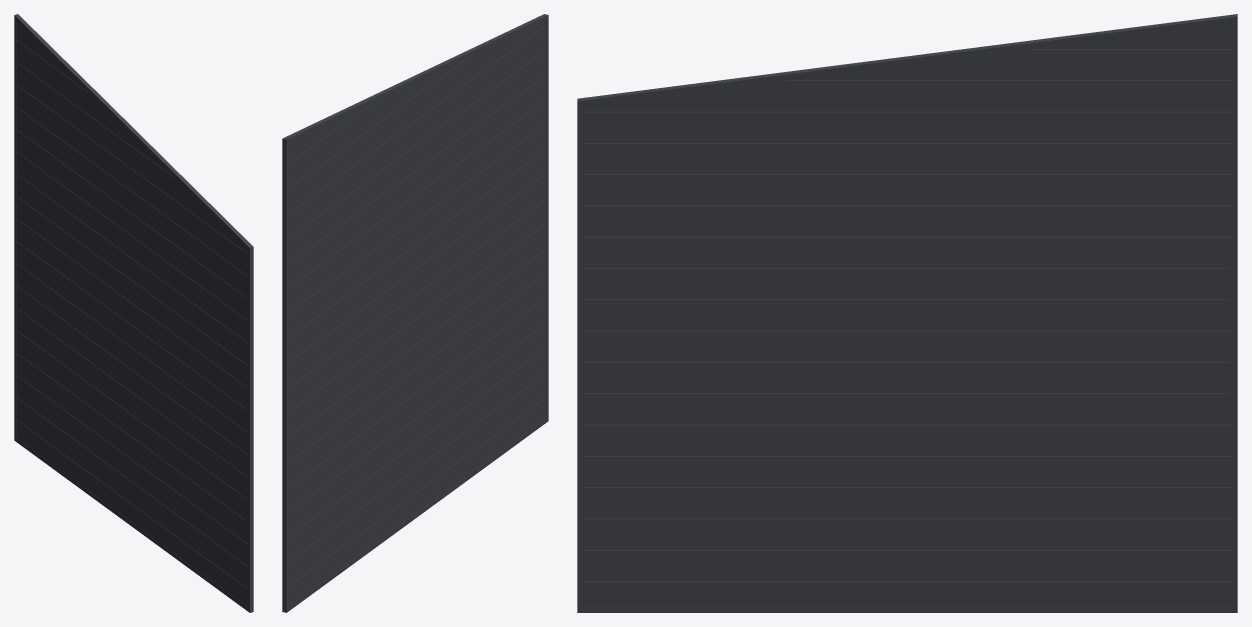
The model's file is nebbiolo_grillo_panel_left_400_300.glb.
The picture shows the model from 3 angles, left to right: view 1: azimuth 30°, elevation 25°; view 2: azimuth 150°, elevation 25°; view 3: azimuth 270°, elevation 25°; orthographic projection. The views are drawn at different scales.
Parts seen in each view (by area): view 1: grillo_panel_left_400_300; view 2: grillo_panel_left_400_300; view 3: grillo_panel_left_400_300.
Boxes of the visible parts, <box> form: grillo_panel_left_400_300: <box>14,14,253,612</box>; grillo_panel_left_400_300: <box>282,14,548,612</box>; grillo_panel_left_400_300: <box>577,14,1237,612</box>.
Bounding box in the file's own units: 0.028 × 2.92 × 2.94.
Materials: 1 (1 with a texture image).
